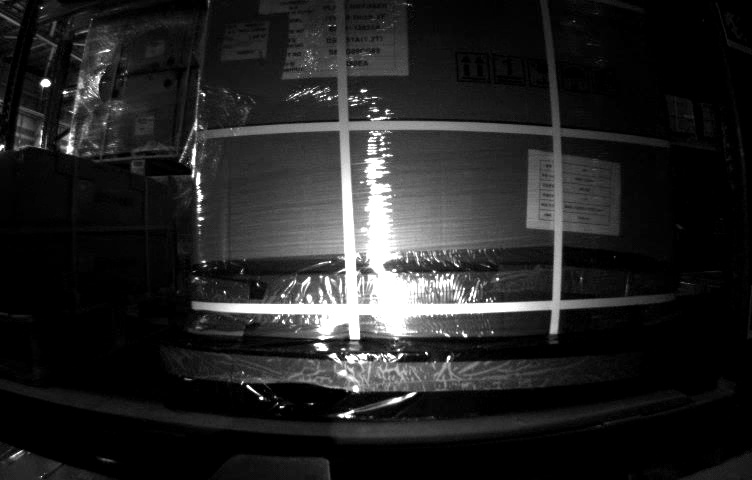True Barcode: (224, 24, 270, 57)
